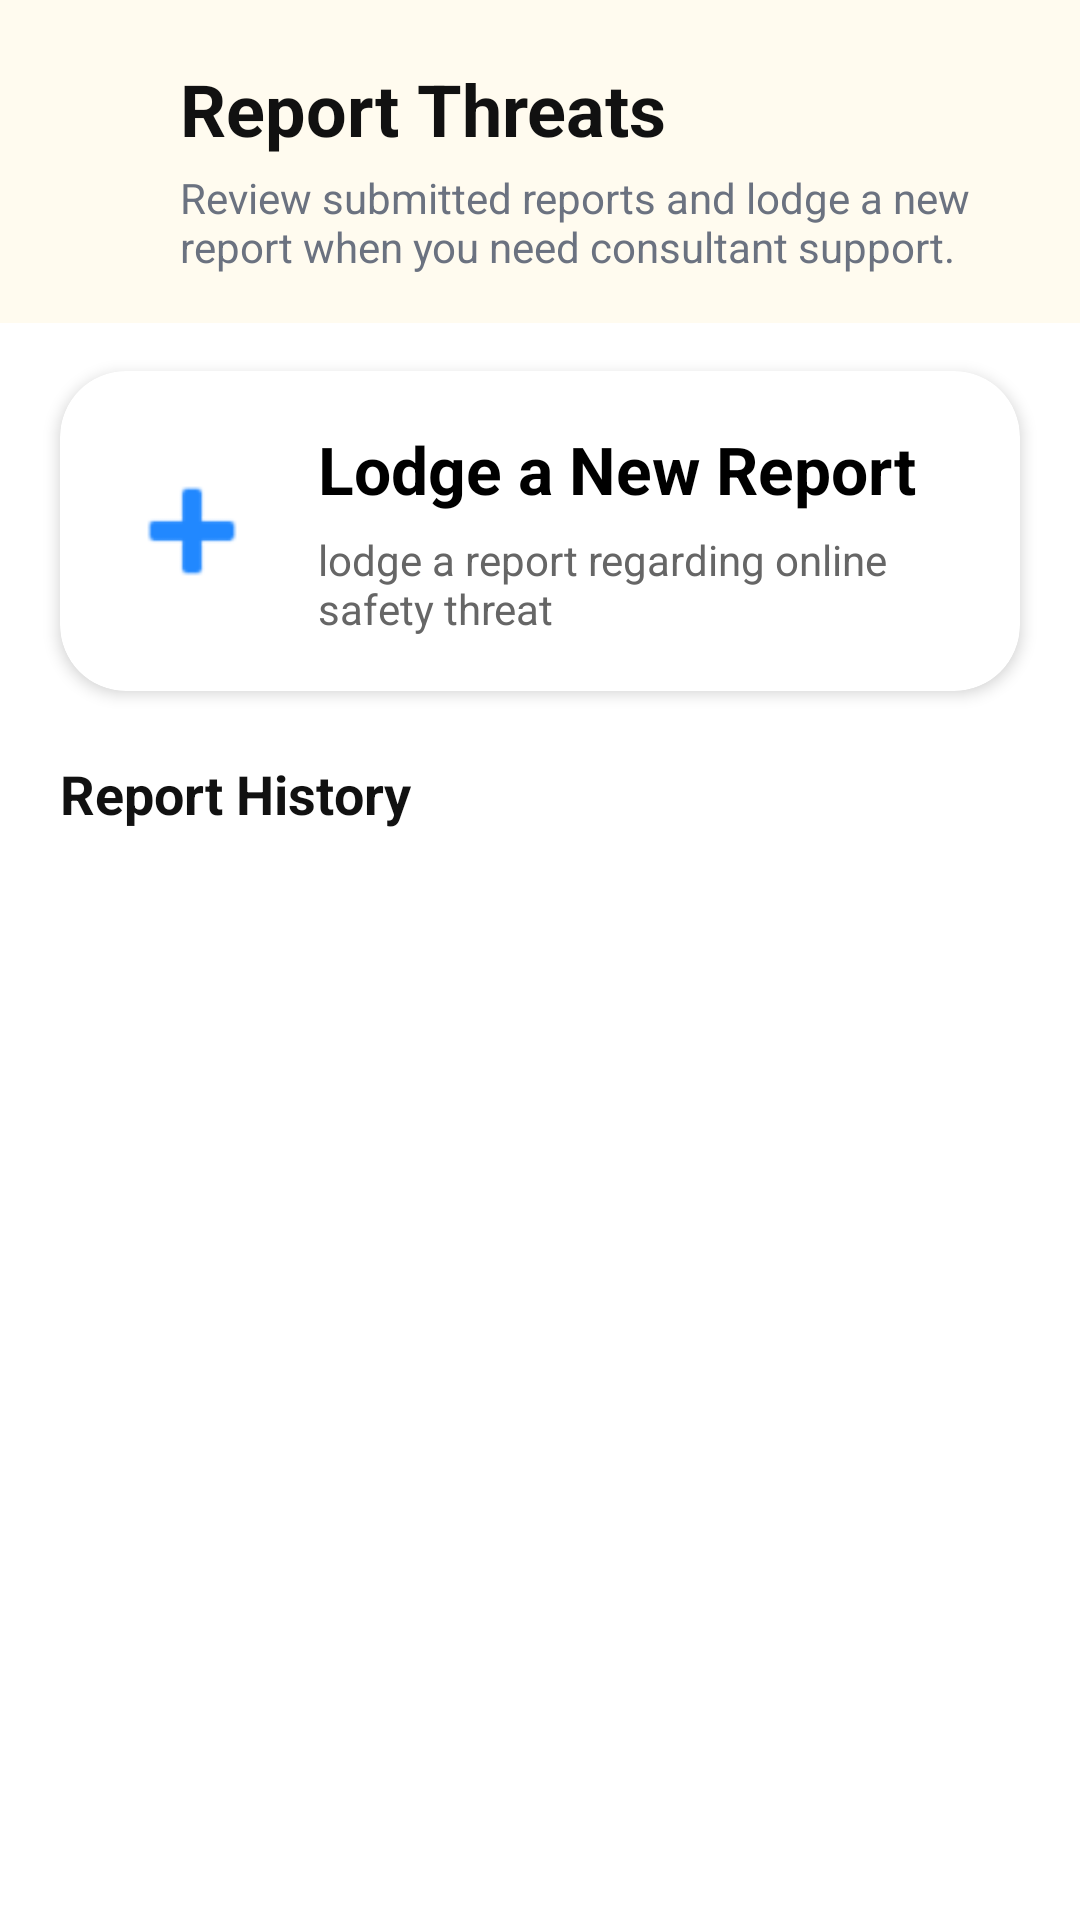

Where to tap for icons on this 1080x1920 app screen, as (x,y):
add: (192,531)
